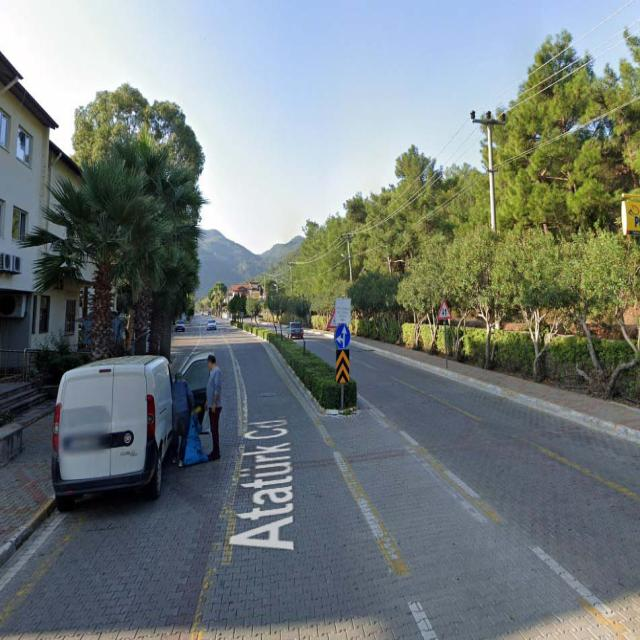ilerisol: (335, 324, 350, 348)
